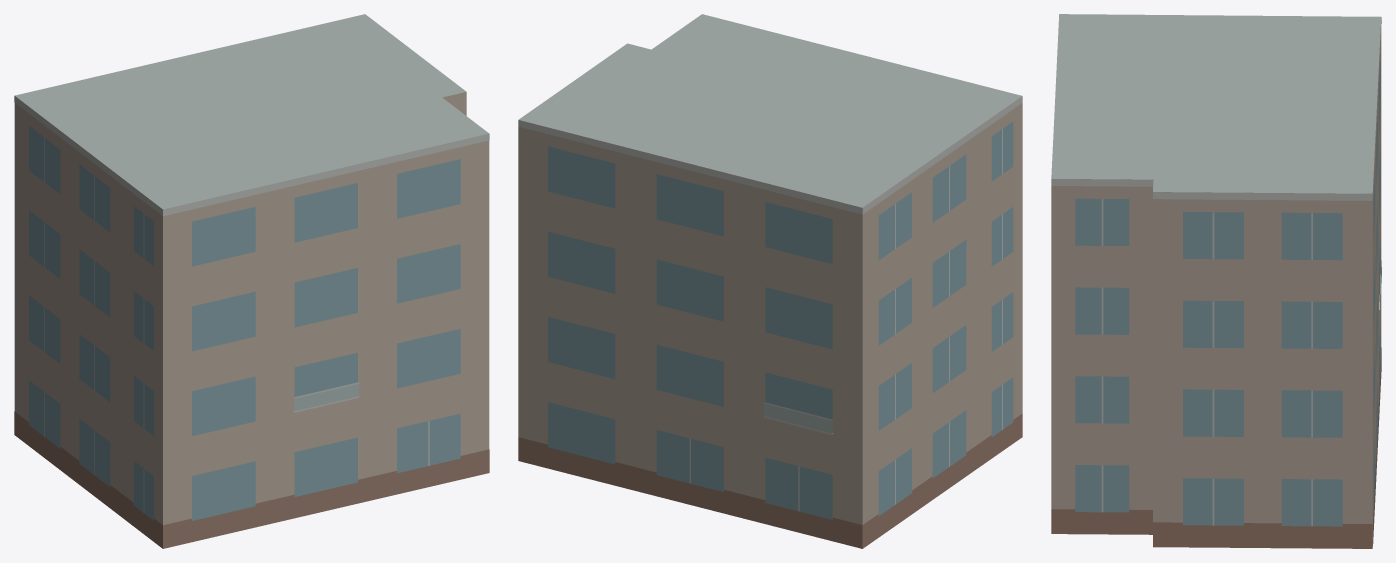
Rendered from residential-73c687f6-6675-4ce2-865e-466f4b35fa60.glb.
3 views of the same model, side by side, from view 1: azimuth 30°, elevation 25°; view 2: azimuth 150°, elevation 25°; view 3: azimuth 270°, elevation 25° (orthographic). The views are drawn at different scales.
Visible parts, largest first — view 1: residential-73c687f6-6675-4ce2-865e-466f4b35fa60.tmp; view 2: residential-73c687f6-6675-4ce2-865e-466f4b35fa60.tmp; view 3: residential-73c687f6-6675-4ce2-865e-466f4b35fa60.tmp.
Part boxes in pixels (bbox=[...]): residential-73c687f6-6675-4ce2-865e-466f4b35fa60.tmp: bbox=[14, 14, 489, 548]; residential-73c687f6-6675-4ce2-865e-466f4b35fa60.tmp: bbox=[518, 14, 1022, 548]; residential-73c687f6-6675-4ce2-865e-466f4b35fa60.tmp: bbox=[1051, 14, 1381, 548].
Size of the model in its own units: 13.25 by 12.2 by 10.3.
